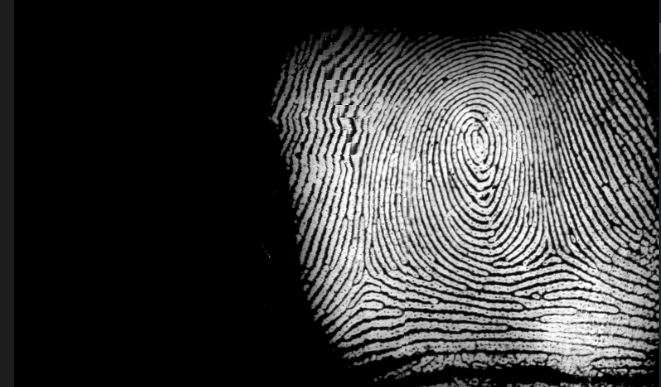nucelo: (459, 113, 495, 168)
verticilo: (344, 266, 386, 291), (534, 244, 571, 270)
